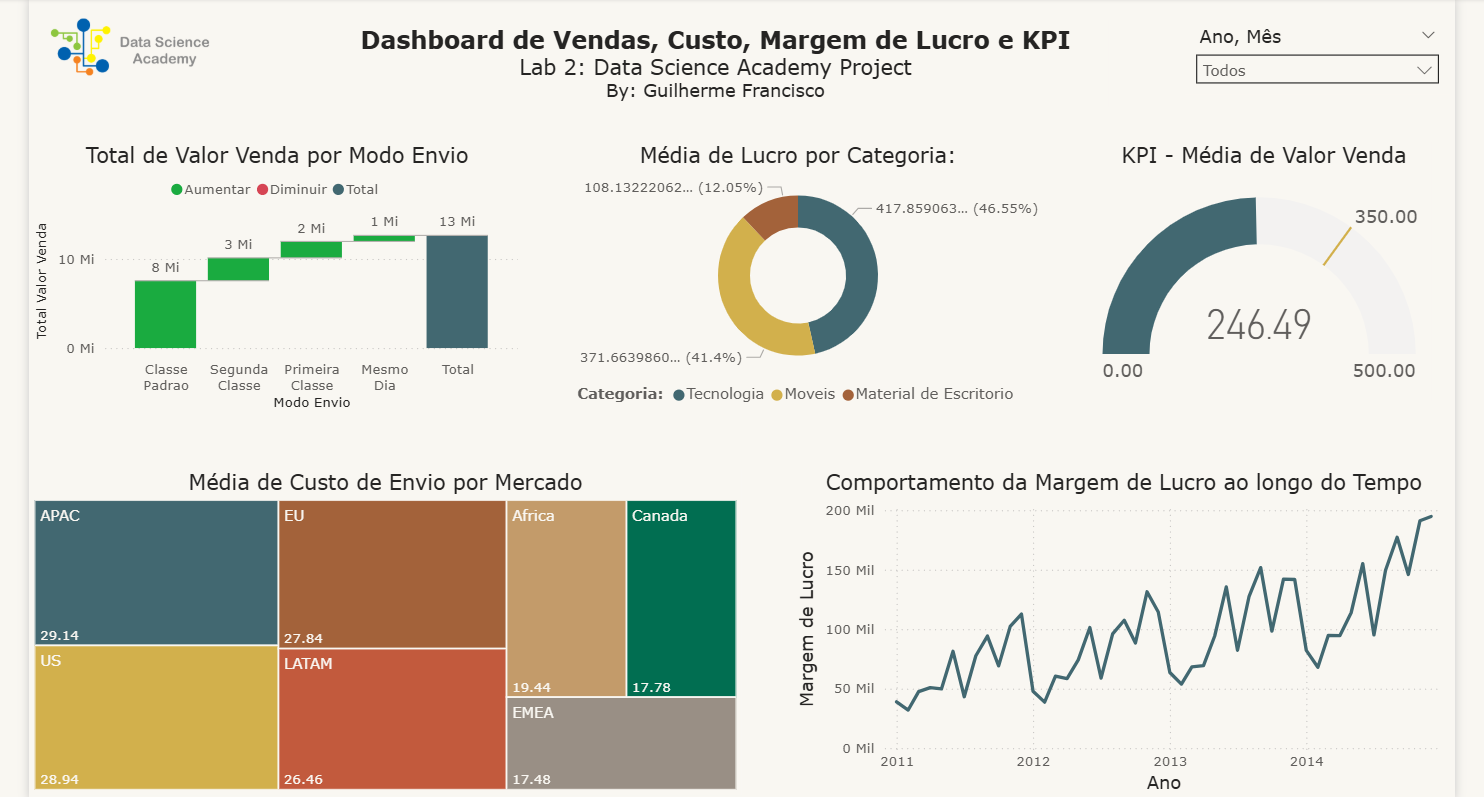

The dashboard page shown, as its layout file describes it:
{"tool":"powerbi","page":{"name":"Vendas, Custo, Margem de Lucro e KPI","canvas":[1280,720],"ordinal":0},"visuals":[{"type":"waterfallChart","title":"Total de Valor Venda por Modo Envio","fields":{"Category":["Pedidos.Modo Envio"],"Y":["Sum(Vendas.Valor Venda)"]},"box":[0.9,129.3,431.8,246],"z":0},{"type":"treemap","fields":{"Group":["Clientes.Mercado"],"Values":["Avg(Vendas.Custo Envio)"]},"box":[0,423.1,640,292.9],"z":1000},{"type":"gauge","title":"KPI - Média de Valor Venda","fields":{"Y":["Avg(Vendas.Valor Venda)"]},"box":[958.8,129.3,299.9,246],"z":2000},{"type":"slicer","title":"F","fields":{"Values":["Pedidos.Data Pedido.Variation.Hierarquia de datas.Ano","Pedidos.Data Pedido.Variation.Hierarquia de datas.Mês"]},"box":[1037.4,19.9,237.6,67.1],"z":3000},{"type":"donutChart","fields":{"Category":["Produtos.Categoria"],"Y":["Avg(Vendas.Lucro)"]},"box":[444.4,129.3,492,246],"z":4000},{"type":"lineChart","title":"Comportamento da Margem de Lucro ao longo do Tempo","fields":{"Category":["Pedidos.Data Pedido.Variation.Hierarquia de datas.Ano","Pedidos.Data Pedido.Variation.Hierarquia de datas.Trimestre","Pedidos.Data Pedido.Variation.Hierarquia de datas.Mês","Pedidos.Data Pedido.Variation.Hierarquia de datas.Dia"],"Y":["Sum(Vendas.MargemLucro)"]},"box":[686.1,423.1,593.9,295.6],"z":5000},{"type":"textbox","box":[263.9,19.8,704.7,78.1],"z":6000},{"type":"image","box":[11.7,13.5,157.1,61],"z":7000}]}

Visuals, with their boxes on the page's 1280x720 design canvas (x1, y1, x2, y2). These are canvas units, not pixel positions in the 1484x797 screenshot, which may show the page scaled, cropped or inside an application window:
"Total de Valor Venda por Modo Envio" waterfallChart: bbox=[1, 129, 433, 375]
treemap - Clientes.Mercado x Avg(Vendas.Custo Envio): bbox=[0, 423, 640, 716]
"KPI - Média de Valor Venda" gauge: bbox=[959, 129, 1259, 375]
"F" slicer: bbox=[1037, 20, 1275, 87]
donutChart - Produtos.Categoria x Avg(Vendas.Lucro): bbox=[444, 129, 936, 375]
"Comportamento da Margem de Lucro ao longo do Tempo" lineChart: bbox=[686, 423, 1280, 719]
textbox: bbox=[264, 20, 969, 98]
image: bbox=[12, 14, 169, 74]
